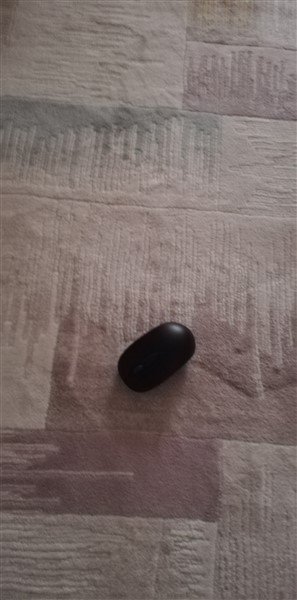mouse: (111, 316, 201, 398)
